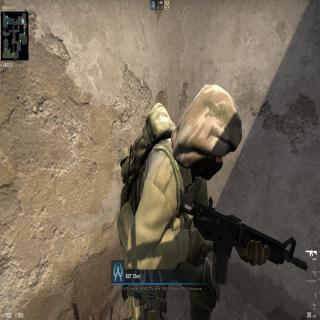CT-Head: (164, 78, 248, 180)
